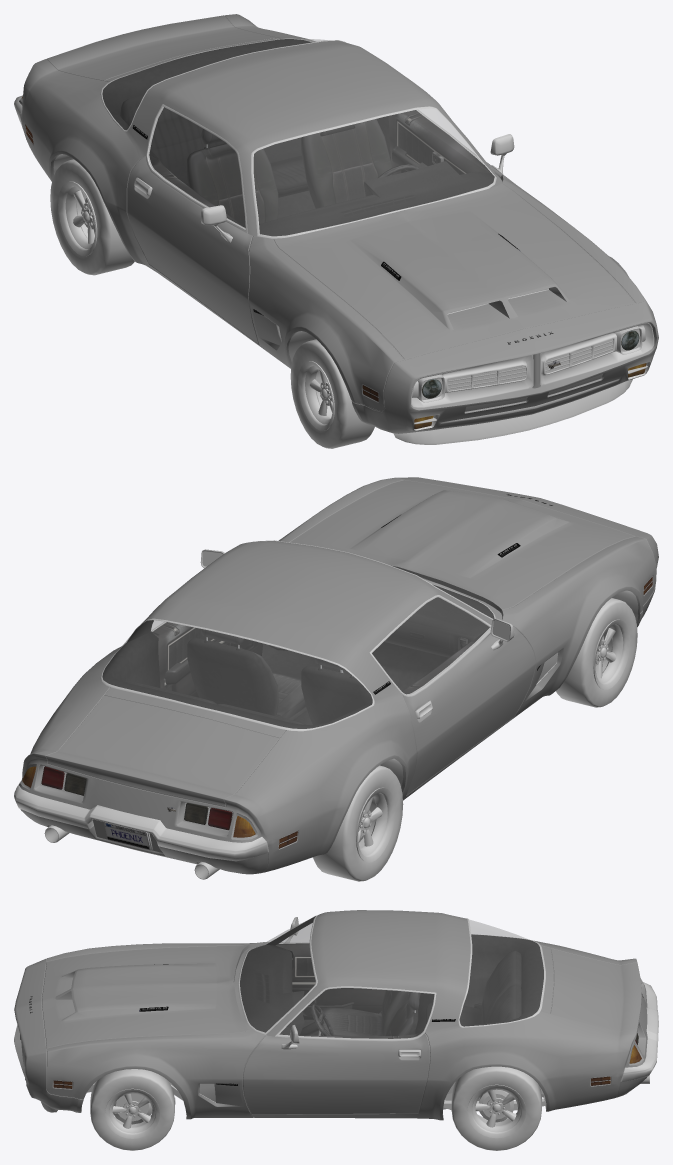
Rendered from Phoenix445.fbx.
3 renders of one model, top to bottom at view 1: azimuth 30°, elevation 25°; view 2: azimuth 150°, elevation 25°; view 3: azimuth 270°, elevation 25°, orthographic. The views are drawn at different scales.
Visible parts, largest first — view 1: Body, Hood, Windshield, Seats, Door_FR, Grill, Trunkdoor, Doorglass_FR, Dashboard, Wheel_RR, Wheel_FR, Interior (+7 smaller); view 2: Body, Hood, Glass_rear, Trunkdoor, Door_FR, Seats, Interior, Doorglass_FR, Wheel_RR, Wheel_FR, Bumper_rear, Dashboard (+9 smaller); view 3: Body, Hood, Door_FL, Glass_rear, Doorglass_FL, Wheel_RL, Seats, Trunkdoor, Windshield, Wheel_FL, Interior, Dashboard (+8 smaller).
Boxes of the visible parts, x1,y1,x2,y2 form: Body: (19,14,658,433); Hood: (274,184,634,359); Windshield: (254,108,494,235); Seats: (120,95,392,227); Door_FR: (127,156,259,344); Grill: (411,322,654,407); Trunkdoor: (47,15,278,80); Doorglass_FR: (148,107,245,228); Dashboard: (259,161,494,236); Wheel_RR: (50,159,134,275); Wheel_FR: (290,339,374,448); Interior: (102,39,494,218); Body: (19,477,658,874); Hood: (290,480,634,611); Glass_rear: (102,620,372,728); Trunkdoor: (46,695,278,806); Door_FR: (401,627,535,794); Seats: (126,629,372,725); Interior: (102,620,448,728); Doorglass_FR: (372,597,490,694); Wheel_RR: (313,765,403,881); Wheel_FR: (556,598,637,707); Bumper_rear: (14,784,268,861); Dashboard: (384,584,494,657); Body: (14,910,647,1120); Hood: (42,944,249,1048); Door_FL: (243,1033,429,1113); Glass_rear: (460,919,543,1026); Doorglass_FL: (279,988,433,1038); Wheel_RL: (451,1066,541,1150); Seats: (321,950,521,1036); Trunkdoor: (550,948,641,1031); Windshield: (240,917,315,1032); Wheel_FL: (90,1069,174,1150); Interior: (266,916,543,1035); Dashboard: (240,945,304,1035).
Bounding box in the file's own units: 2.09 × 4.89 × 1.33.
